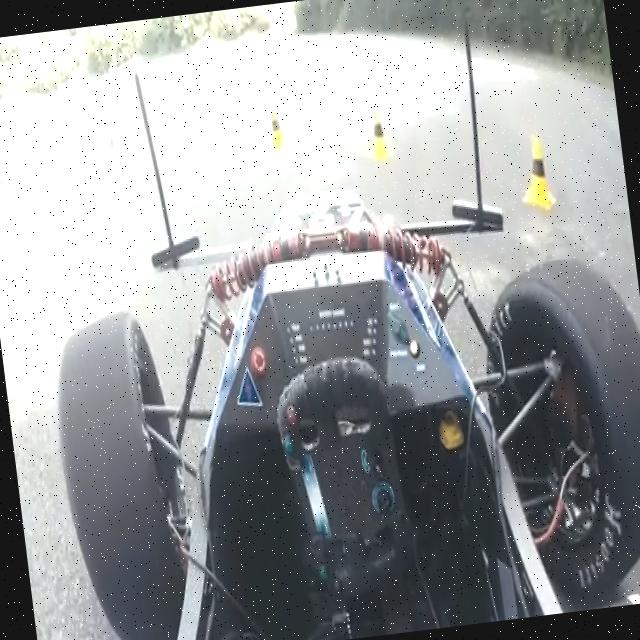yellow_cone: (514, 120, 556, 209), (364, 108, 391, 164), (262, 106, 286, 152), (105, 132, 126, 178)
